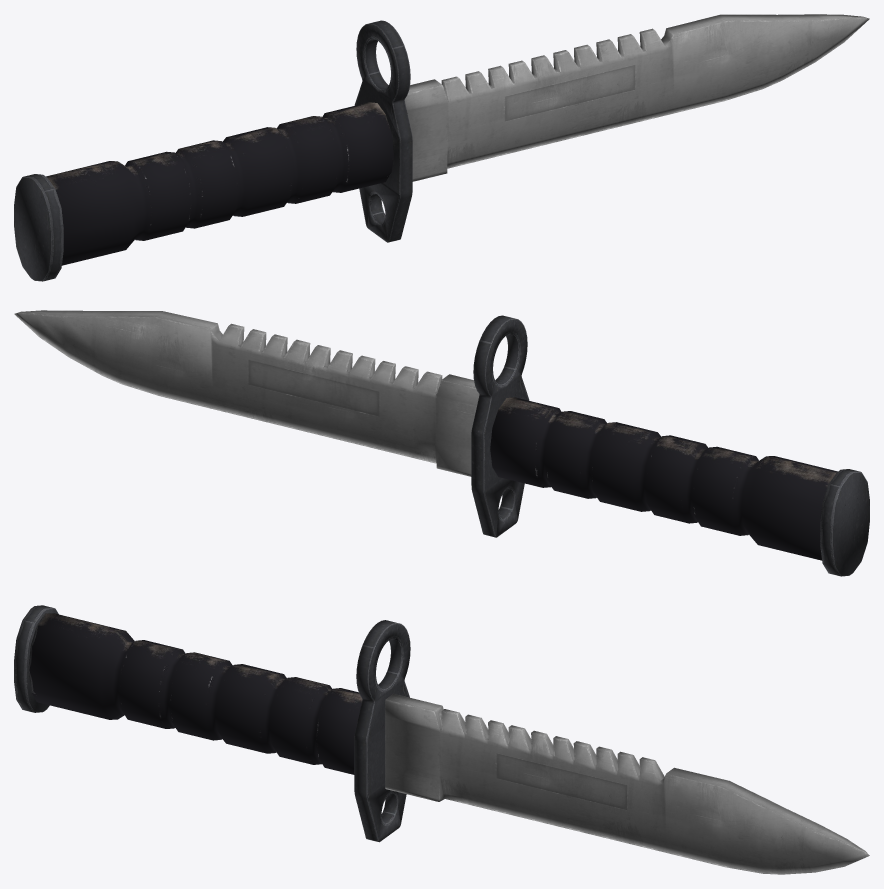
The model's file is m9-knife.glb.
3 renders of one model, top to bottom at view 1: azimuth 30°, elevation 25°; view 2: azimuth 150°, elevation 25°; view 3: azimuth 330°, elevation 25°, orthographic.
Parts seen in each view (by area): view 1: M9_Knife_Cube.003; view 2: M9_Knife_Cube.003; view 3: M9_Knife_Cube.003.
Part boxes in pixels (bbox=[...]): M9_Knife_Cube.003: bbox=[14, 14, 869, 281]; M9_Knife_Cube.003: bbox=[14, 310, 869, 576]; M9_Knife_Cube.003: bbox=[14, 605, 869, 874].
Size of the model in its own units: 12.03 by 2.87 by 1.15.
Materials: 2 (2 with a texture image).
